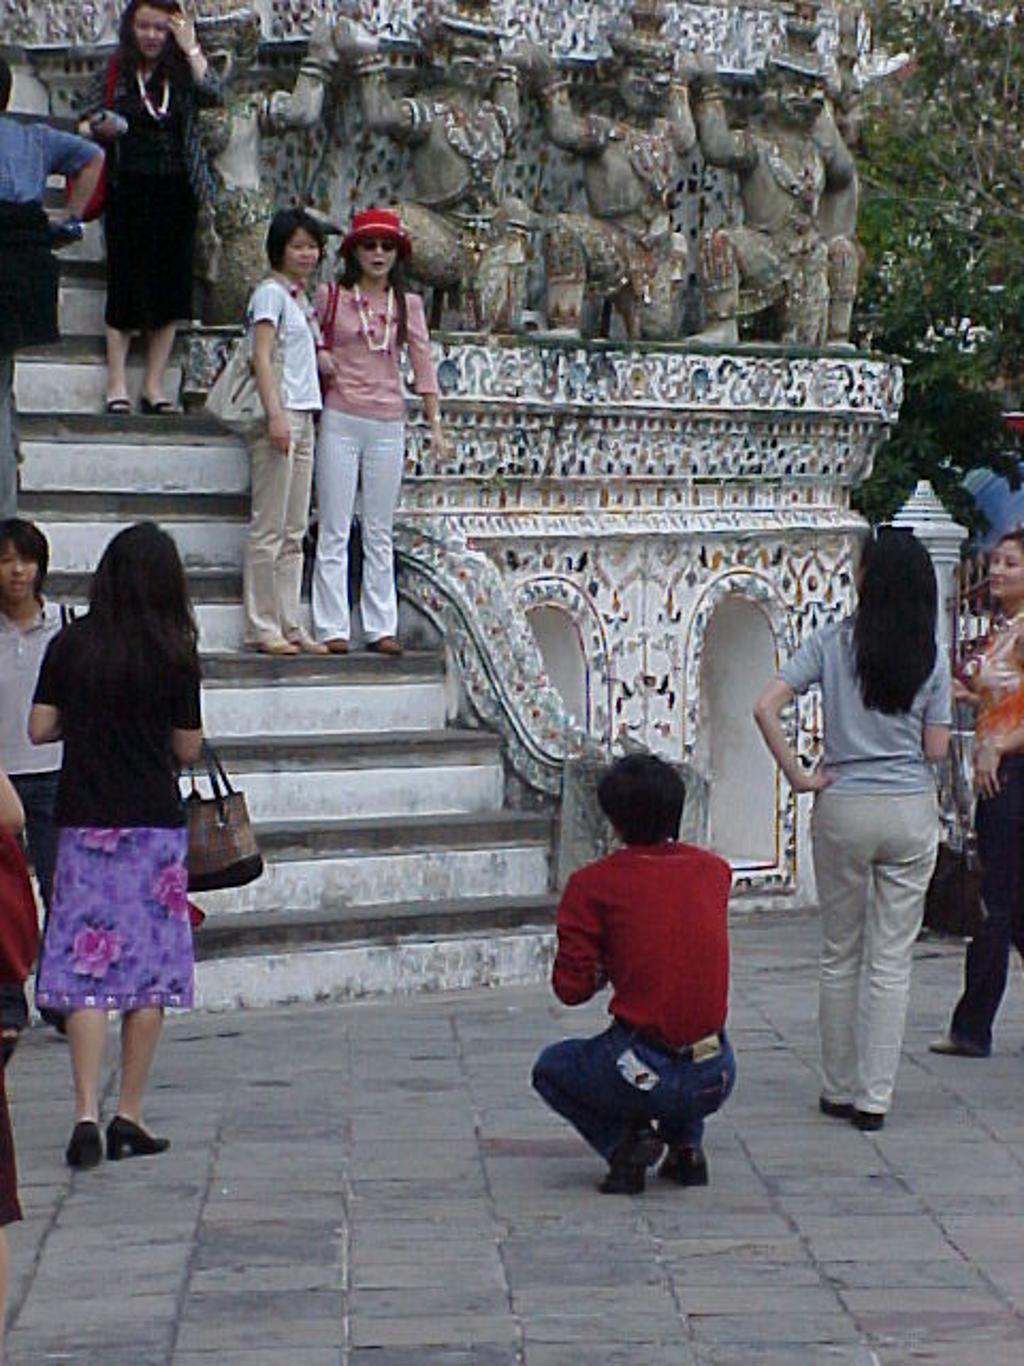face: (0, 539, 38, 598), (987, 541, 1021, 599), (356, 233, 397, 276), (134, 7, 169, 55), (286, 231, 319, 276), (855, 539, 881, 592)
